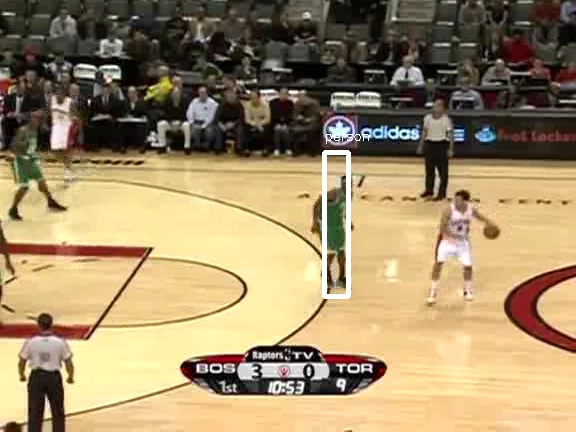person: (319, 183, 353, 264), (318, 183, 352, 264), (320, 183, 354, 264), (319, 182, 353, 263), (319, 184, 353, 265)
target_negative: (345, 1, 453, 279), (289, 246, 386, 414), (26, 29, 259, 82), (488, 153, 534, 395), (420, 196, 428, 229), (555, 416, 562, 428)
